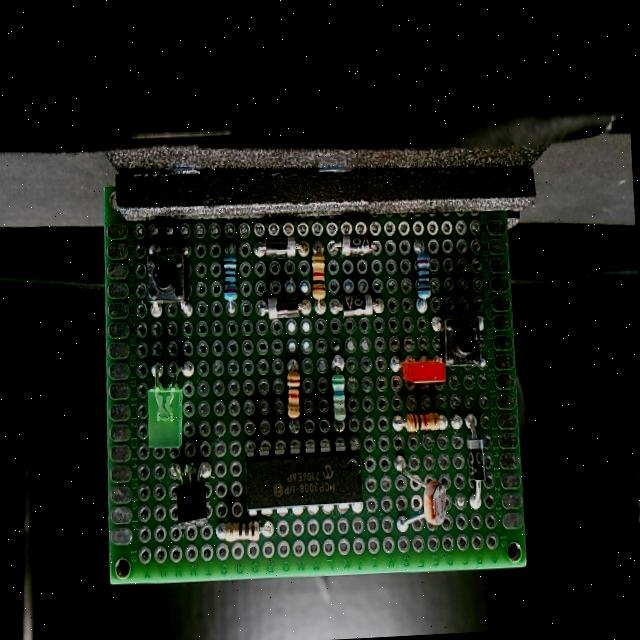IC: (244, 446, 368, 514)
cds: (416, 478, 454, 530)
diode: (463, 434, 488, 484), (338, 293, 379, 323), (260, 232, 300, 260), (265, 294, 306, 320), (338, 230, 376, 258)
led: (144, 383, 186, 453), (401, 352, 449, 388)
resistor: (220, 256, 242, 310), (328, 375, 350, 426), (308, 255, 329, 304), (220, 522, 266, 544), (283, 370, 301, 426), (404, 412, 446, 436), (412, 252, 432, 302)
switch: (442, 312, 486, 369), (144, 247, 188, 304)
transistor: (171, 480, 210, 528)
